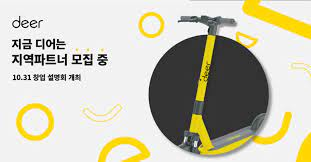kick_neck: (195, 39, 216, 124)
